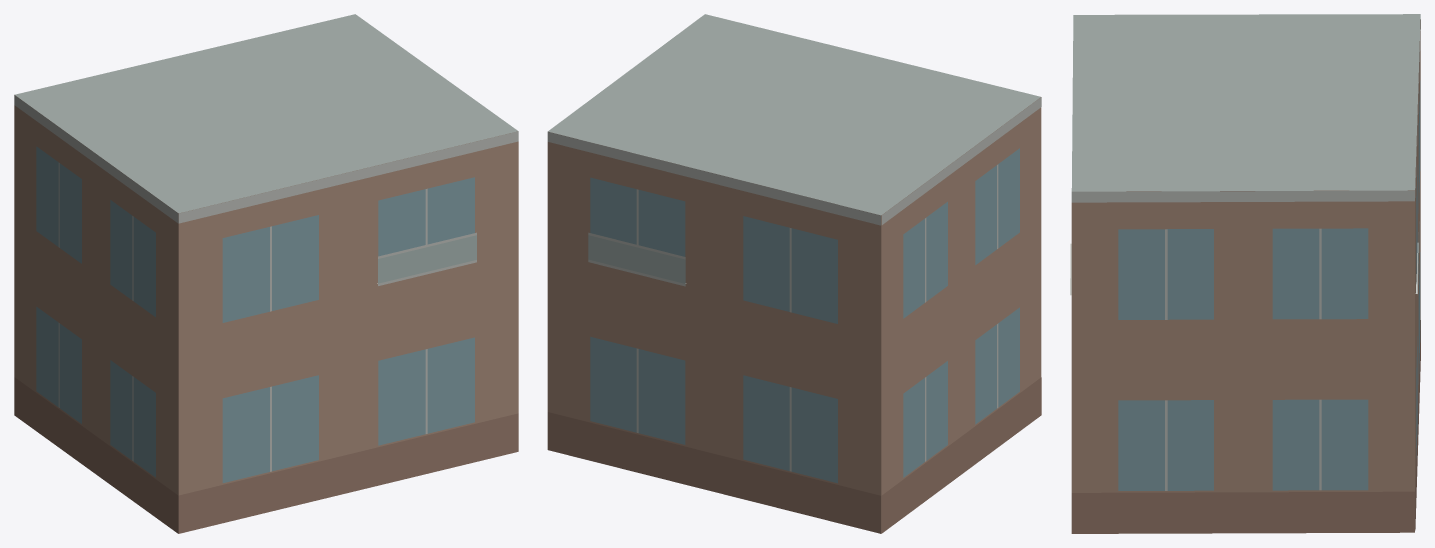
File: survey-upis-32614042.glb
The picture shows the model from 3 angles, left to right: view 1: azimuth 30°, elevation 25°; view 2: azimuth 150°, elevation 25°; view 3: azimuth 270°, elevation 25°; orthographic projection. The views are drawn at different scales.
Visible parts, largest first — view 1: survey-upis-32614042.tmp; view 2: survey-upis-32614042.tmp; view 3: survey-upis-32614042.tmp.
Part boxes in pixels (box(x1,y1,x2,y2)): survey-upis-32614042.tmp: box(14, 14, 518, 533); survey-upis-32614042.tmp: box(547, 14, 1041, 533); survey-upis-32614042.tmp: box(1070, 14, 1420, 533).
Bounding box in the file's own units: 8.47 × 7.6 × 7.06.
